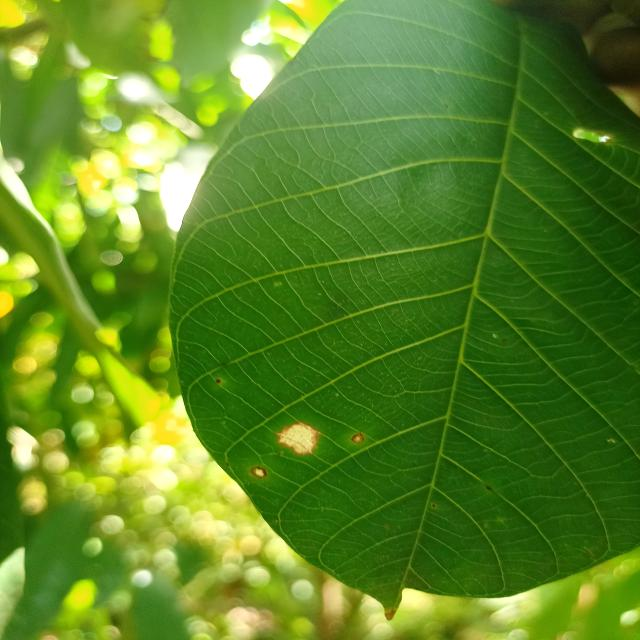Colletotrichum: (250, 466, 268, 478), (351, 432, 364, 443)
Leaf-Blight: (278, 422, 316, 454)
